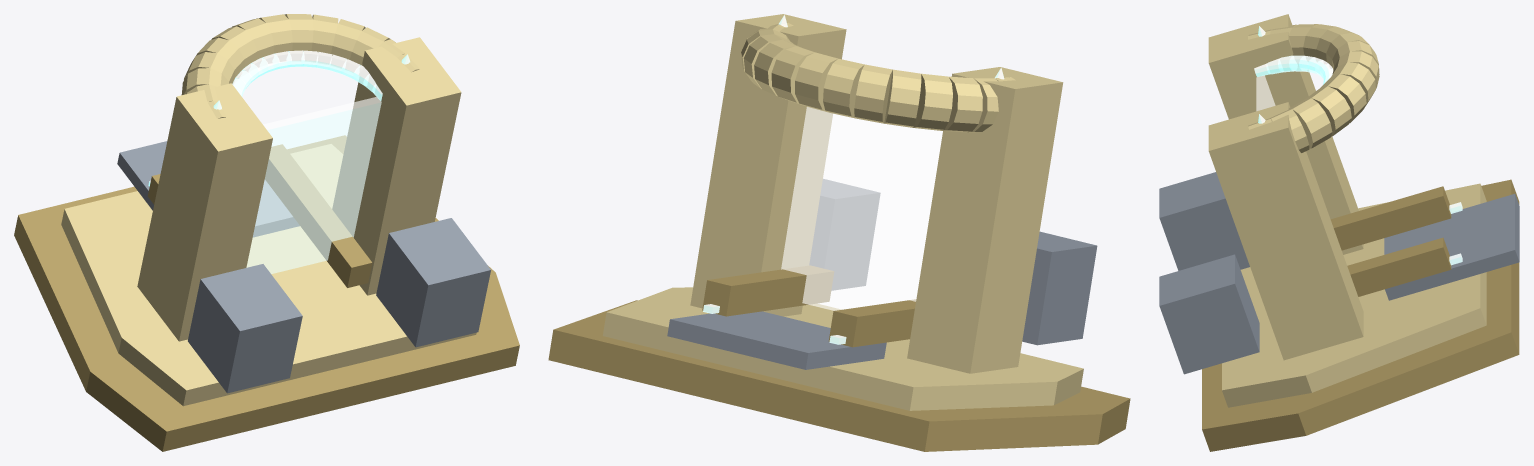
The model's file is helias_gateway.glb.
The picture shows the model from 3 angles, left to right: view 1: azimuth 30°, elevation 25°; view 2: azimuth 150°, elevation 25°; view 3: azimuth 270°, elevation 25°; orthographic projection. The views are drawn at different scales.
Parts seen in each view (by area): view 1: foundation_000, floor_001, portal_tower_003, portal_tower_007, warp_field_043, rear_reactor_010, rear_reactor_006, side_conduit_045, ramp_002, gateway_arch_015, gateway_arch_014, gateway_arch_016 (+7 smaller); view 2: portal_tower_003, warp_field_043, portal_tower_007, foundation_000, floor_001, ramp_002, rear_reactor_006, rear_reactor_010, side_conduit_045, side_conduit_044, gateway_arch_021, gateway_arch_019 (+8 smaller); view 3: portal_tower_007, foundation_000, floor_001, portal_tower_003, rear_reactor_010, ramp_002, rear_reactor_006, side_conduit_044, side_conduit_045, gateway_arch_013, gateway_arch_014, gateway_arch_015 (+9 smaller).
Part boxes in pixels (<box>): foundation_000: <box>14,135,519,451</box>; floor_001: <box>61,144,476,406</box>; portal_tower_003: <box>137,83,272,341</box>; portal_tower_007: <box>332,37,461,295</box>; warp_field_043: <box>246,97,381,273</box>; rear_reactor_010: <box>376,218,490,347</box>; rear_reactor_006: <box>188,264,302,393</box>; side_conduit_045: <box>265,144,372,287</box>; ramp_002: <box>117,141,299,237</box>; gateway_arch_015: <box>311,14,338,53</box>; gateway_arch_014: <box>331,19,365,59</box>; gateway_arch_016: <box>284,14,313,51</box>; portal_tower_003: <box>907,67,1063,373</box>; warp_field_043: <box>781,107,942,310</box>; portal_tower_007: <box>690,14,846,316</box>; foundation_000: <box>548,300,1130,451</box>; floor_001: <box>603,287,1083,410</box>; ramp_002: <box>667,311,886,369</box>; rear_reactor_006: <box>1022,231,1097,345</box>; rear_reactor_010: <box>809,179,880,290</box>; side_conduit_045: <box>702,265,833,316</box>; side_conduit_044: <box>828,299,915,347</box>; gateway_arch_021: <box>913,73,952,130</box>; gateway_arch_019: <box>854,64,892,123</box>; portal_tower_007: <box>1208,102,1363,360</box>; foundation_000: <box>1202,179,1519,451</box>; floor_001: <box>1222,183,1486,407</box>; portal_tower_003: <box>1208,14,1363,254</box>; rear_reactor_010: <box>1159,254,1259,374</box>; ramp_002: <box>1384,194,1519,300</box>; rear_reactor_006: <box>1159,172,1249,270</box>; side_conduit_044: <box>1330,186,1451,250</box>; side_conduit_045: <box>1347,237,1451,296</box>; gateway_arch_013: <box>1289,98,1332,148</box>; gateway_arch_014: <box>1306,86,1351,136</box>; gateway_arch_015: <box>1320,74,1366,123</box>.
Size of the model in its own units: 4 by 3.14 by 3.21.
